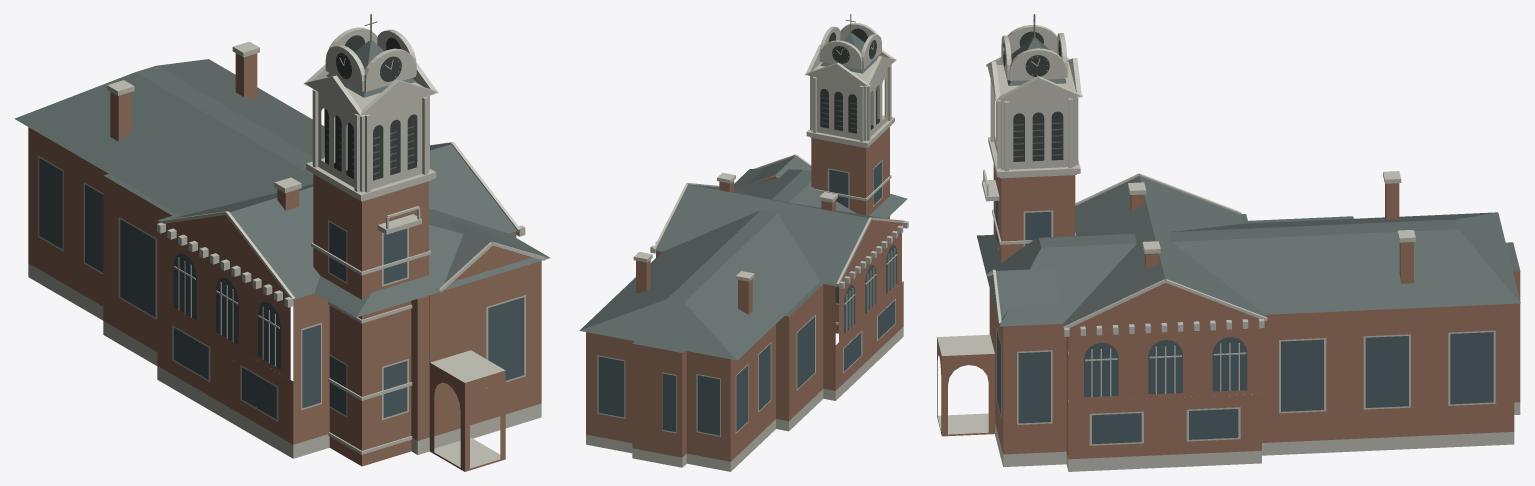
Rendered from gwinnett-historic-courthouse-far.glb.
3 renders of one model, left to right at view 1: azimuth 30°, elevation 25°; view 2: azimuth 150°, elevation 25°; view 3: azimuth 270°, elevation 25°, orthographic. The views are drawn at different scales.
Visible parts, largest first — view 1: gwinnett-historic-courthouse-0-brick, gwinnett-historic-courthouse-0-roof, gwinnett-historic-courthouse-0-stone, gwinnett-historic-courthouse-0-glass, gwinnett-historic-courthouse-0-dark; view 2: gwinnett-historic-courthouse-0-roof, gwinnett-historic-courthouse-0-brick, gwinnett-historic-courthouse-0-stone, gwinnett-historic-courthouse-0-glass, gwinnett-historic-courthouse-0-dark; view 3: gwinnett-historic-courthouse-0-brick, gwinnett-historic-courthouse-0-roof, gwinnett-historic-courthouse-0-stone, gwinnett-historic-courthouse-0-glass, gwinnett-historic-courthouse-0-dark.
Boxes of the visible parts, box(x1,y1,x2,y2) form: gwinnett-historic-courthouse-0-brick: box(28, 53, 541, 471); gwinnett-historic-courthouse-0-roof: box(14, 40, 550, 317); gwinnett-historic-courthouse-0-stone: box(28, 27, 545, 468); gwinnett-historic-courthouse-0-glass: box(39, 158, 524, 419); gwinnett-historic-courthouse-0-dark: box(325, 35, 417, 180); gwinnett-historic-courthouse-0-roof: box(579, 33, 907, 360); gwinnett-historic-courthouse-0-brick: box(586, 127, 903, 461); gwinnett-historic-courthouse-0-stone: box(586, 23, 908, 471); gwinnett-historic-courthouse-0-glass: box(598, 161, 897, 435); gwinnett-historic-courthouse-0-dark: box(820, 28, 879, 133); gwinnett-historic-courthouse-0-brick: box(937, 164, 1520, 459); gwinnett-historic-courthouse-0-roof: box(977, 38, 1520, 326); gwinnett-historic-courthouse-0-stone: box(937, 25, 1520, 471); gwinnett-historic-courthouse-0-glass: box(996, 200, 1493, 444); gwinnett-historic-courthouse-0-dark: box(1003, 31, 1063, 161).
Size of the model in its own units: 24.37 by 36.5 by 50.08.
